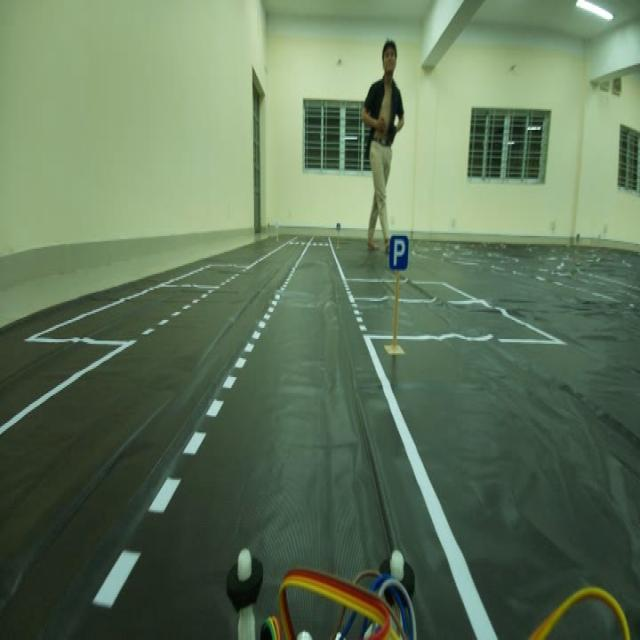parking: (385, 221, 411, 276)
